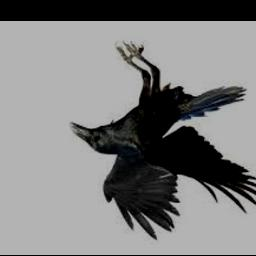Crow: (71, 44, 256, 240)
